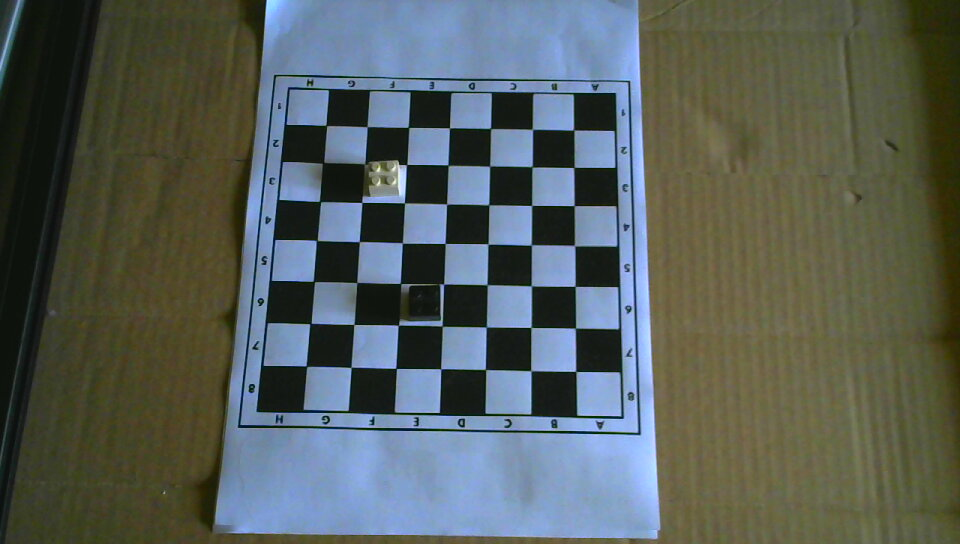bp: (407, 284, 442, 322)
wp: (367, 161, 401, 198)
